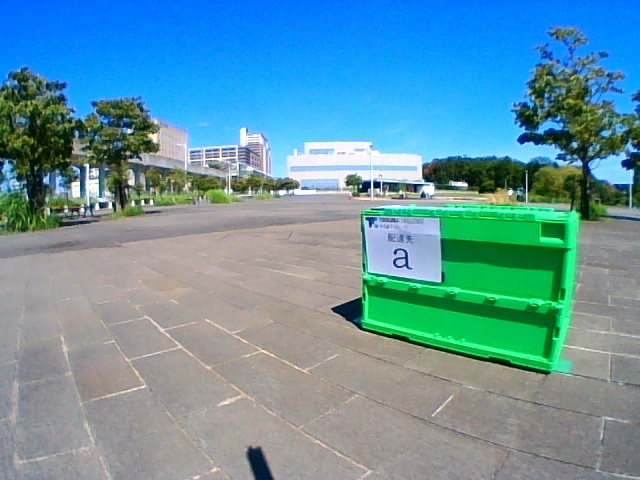green_box: (361, 204, 580, 374)
tag_a: (367, 220, 437, 274)
